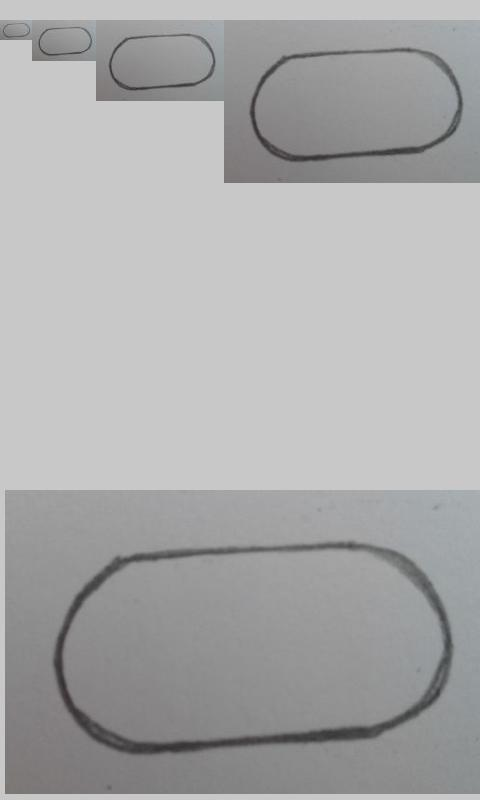chip: (54, 538, 453, 755), (248, 48, 464, 162), (109, 33, 217, 90), (38, 26, 92, 56), (2, 22, 31, 38)
